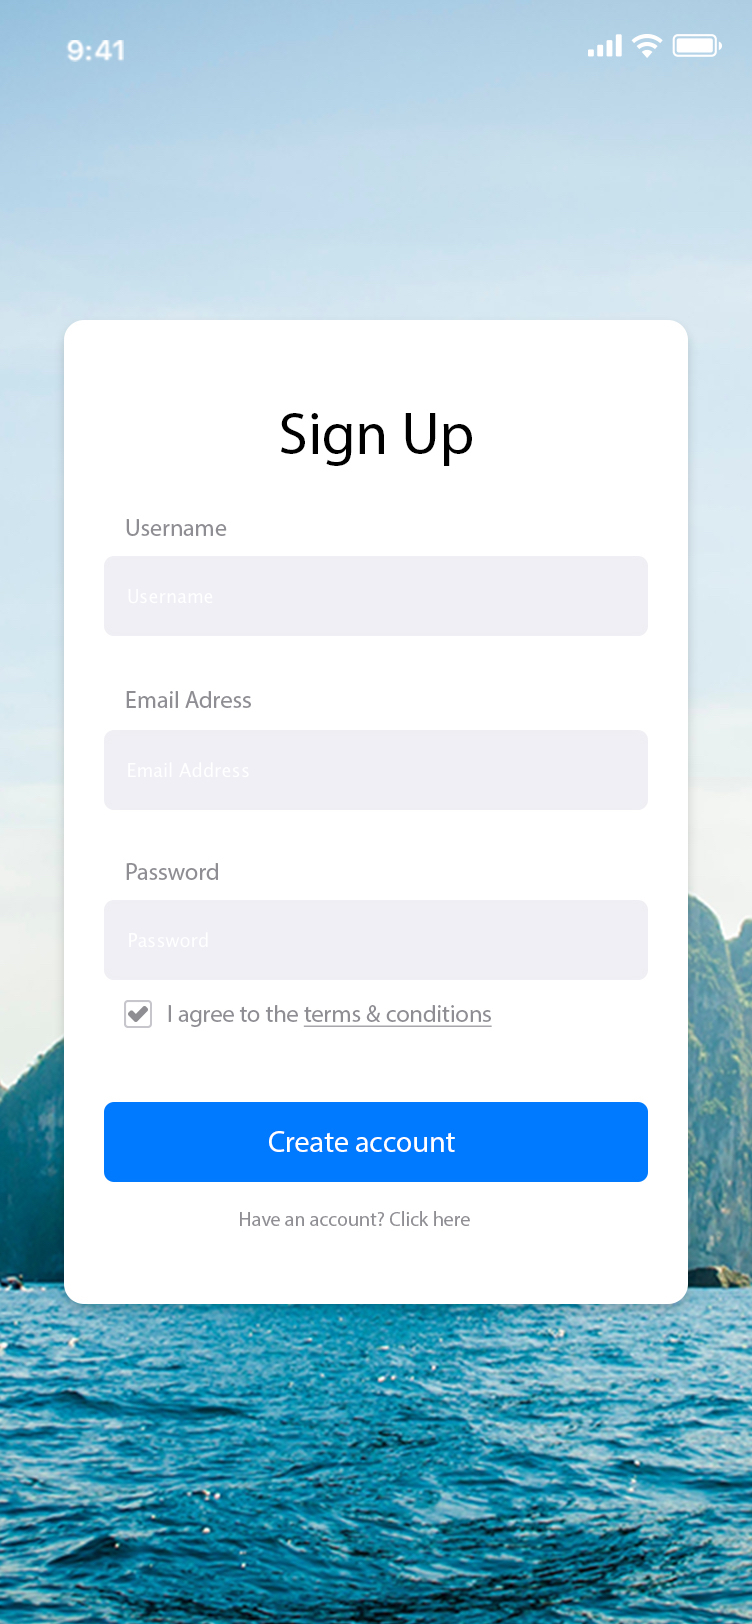CheckedTextView: (125, 1001, 493, 1029)
EditText: (104, 730, 648, 811), (105, 900, 649, 981), (105, 556, 648, 637)
Text: (281, 413, 473, 468), (169, 1004, 493, 1028), (240, 1210, 471, 1227), (127, 691, 252, 711), (126, 862, 220, 882), (128, 762, 250, 778), (127, 519, 228, 538), (131, 931, 209, 949), (129, 590, 214, 605)
TextButton: (104, 1102, 648, 1183)
UpperTaskBar: (67, 34, 723, 63)
